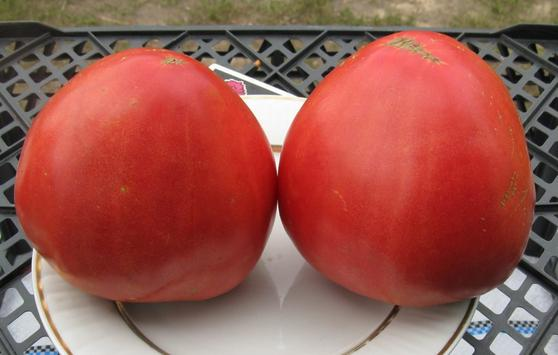tomato: (286, 22, 541, 307), (20, 49, 280, 298)
